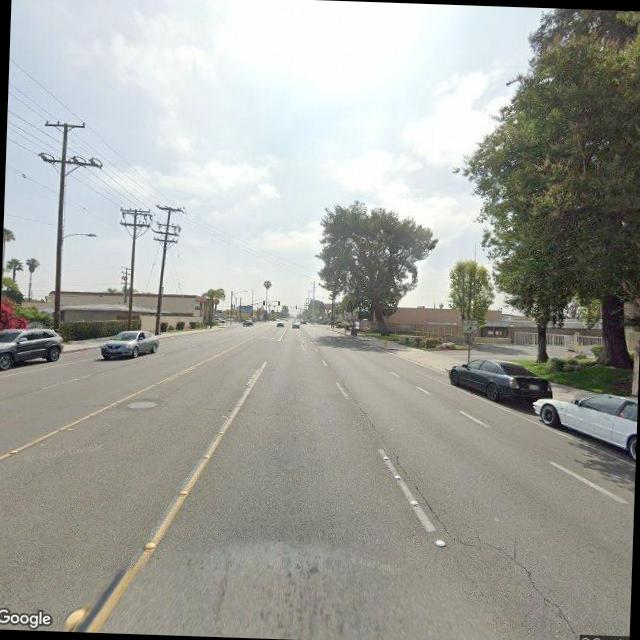crack: (460, 531, 586, 640)
